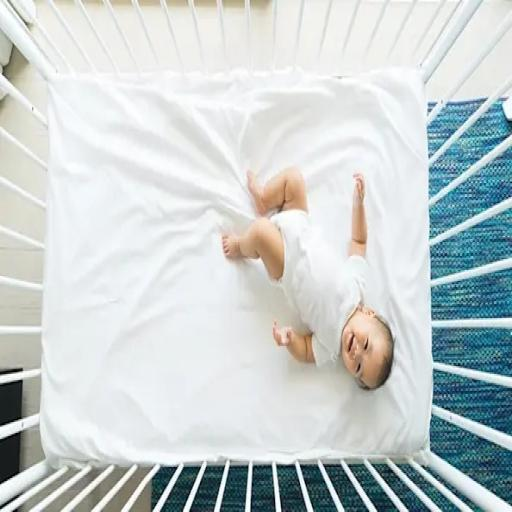baby: (223, 170, 393, 389)
crib: (0, 0, 511, 510)
